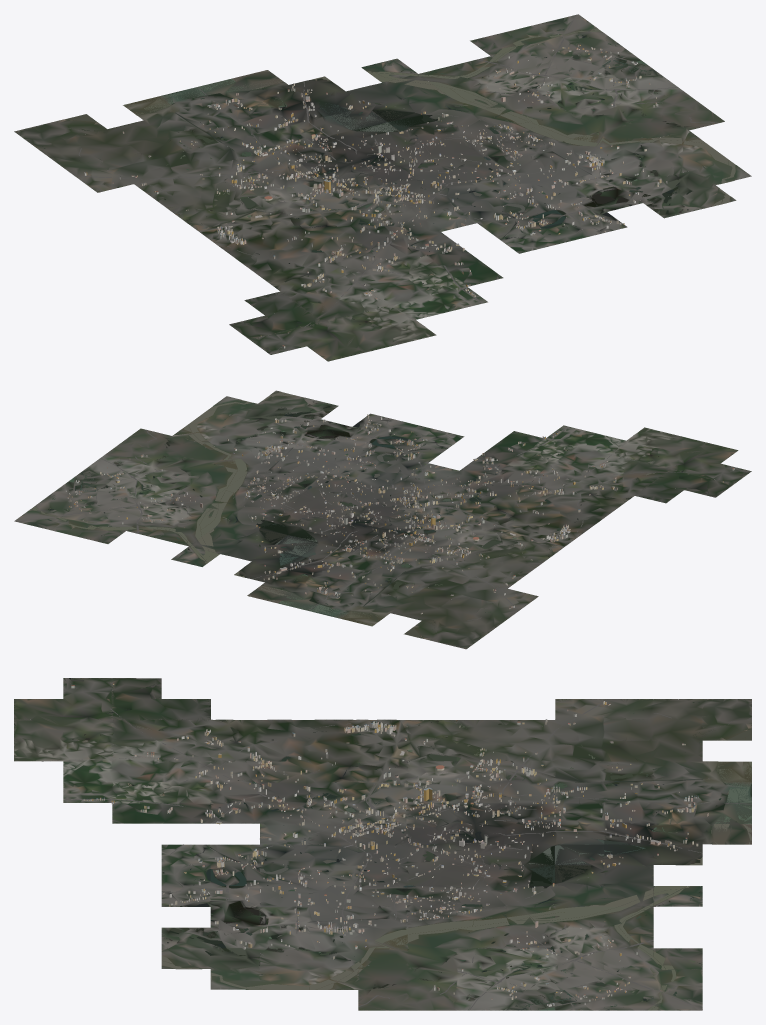
3 views of the same model, one above another, from view 1: azimuth 30°, elevation 25°; view 2: azimuth 150°, elevation 25°; view 3: azimuth 270°, elevation 25° (orthographic). The views are drawn at different scales.
Parts seen in each view (by area): view 1: ground, buildings, water, roads; view 2: ground, buildings, water, roads; view 3: ground, water, buildings, roads.
Boxes of the visible parts, x1,y1,x2,y2 form: ground: (14, 14, 751, 361); buildings: (84, 44, 667, 348); water: (42, 28, 735, 353); roads: (68, 20, 718, 353); ground: (14, 390, 751, 649); buildings: (65, 414, 734, 614); water: (31, 392, 749, 638); roads: (16, 419, 750, 631); ground: (14, 678, 751, 1010); water: (69, 678, 751, 1010); buildings: (71, 683, 708, 1006); roads: (42, 680, 751, 1010).
Size of the model in its own units: 22420 by 342 by 21030.
